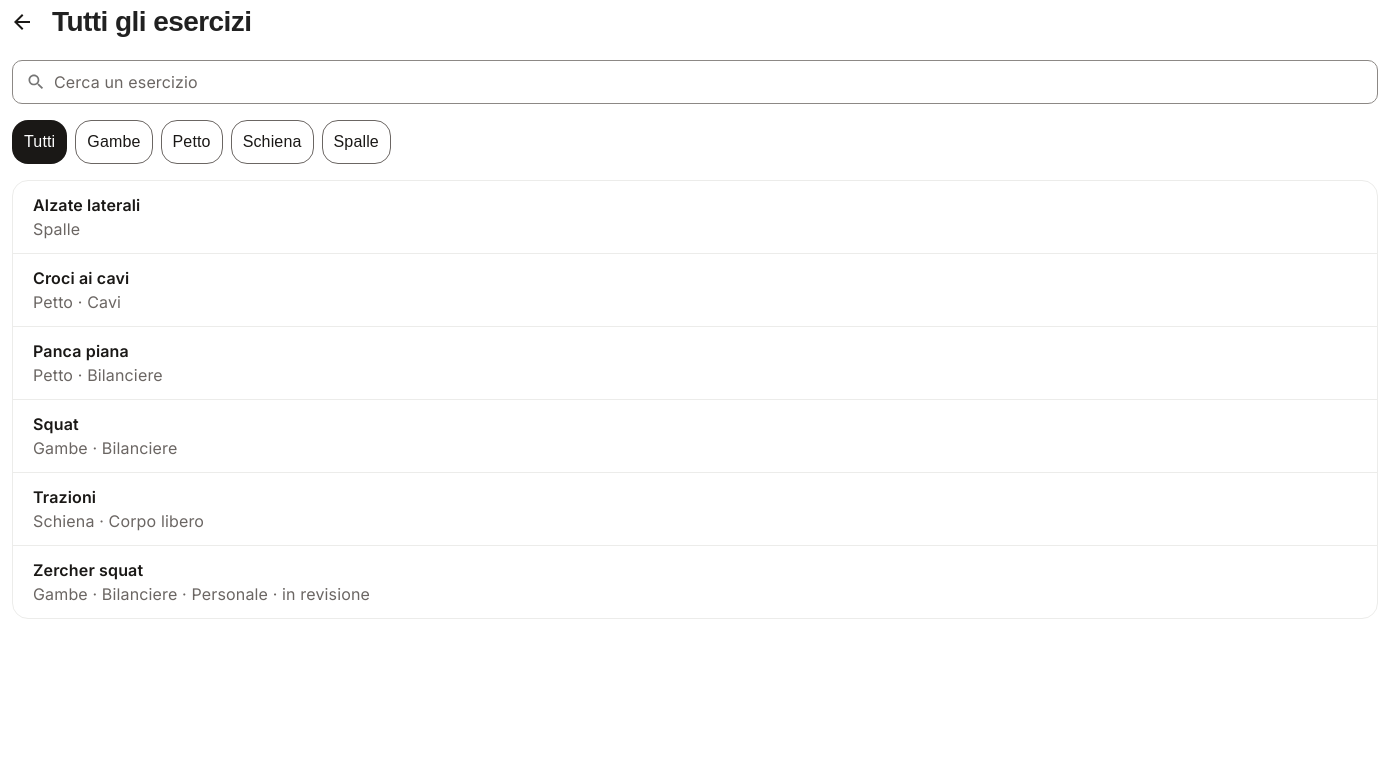
Test: ricerca › senza corrispondenze: «Nessun esercizio trovato» al posto dell'elenco
expect the list is shown: met, box [13, 181, 1377, 618]
In the field labelled "Cerca un esercizio": [716, 82] box [54, 60, 1378, 104], type "xyz"
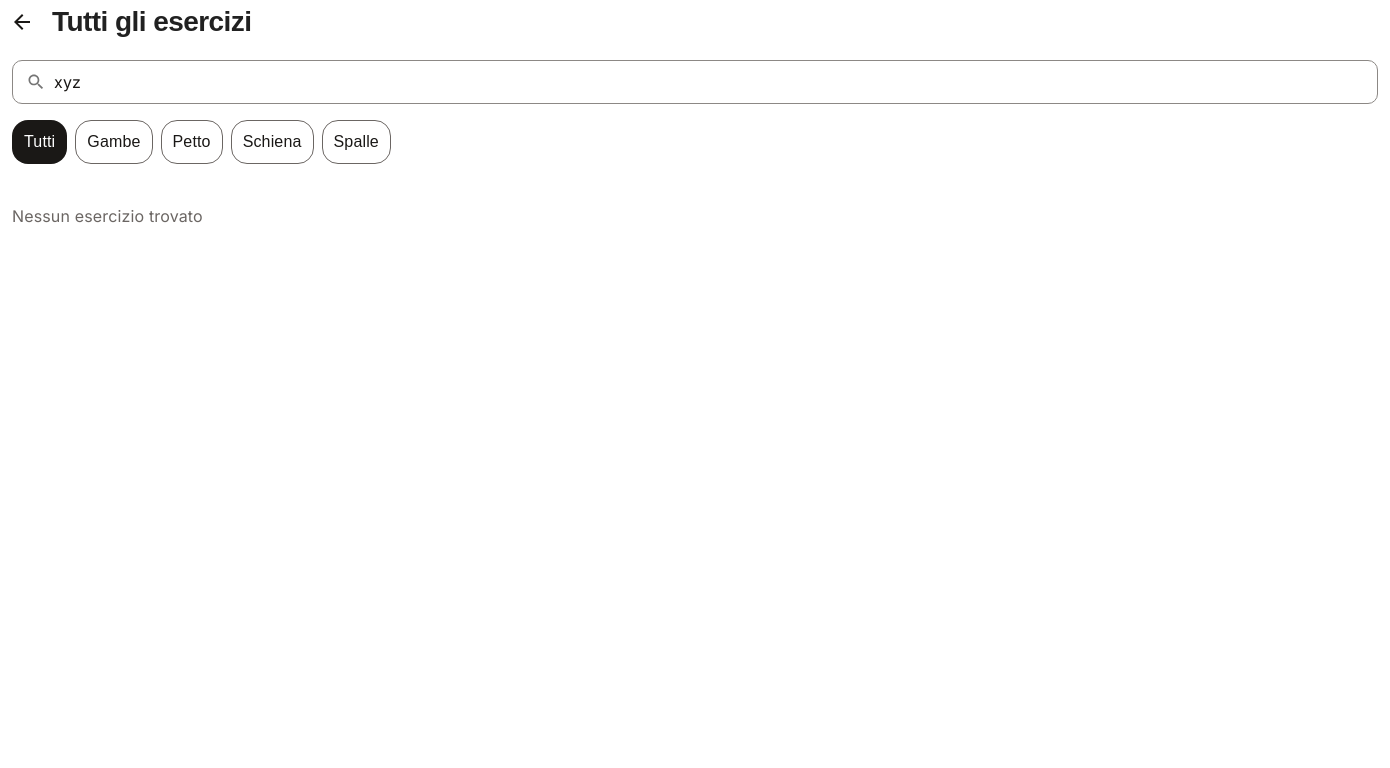
expect the text "Nessun esercizio trovato" is shown: met, box [12, 206, 203, 226]
expect the list is gone: met
